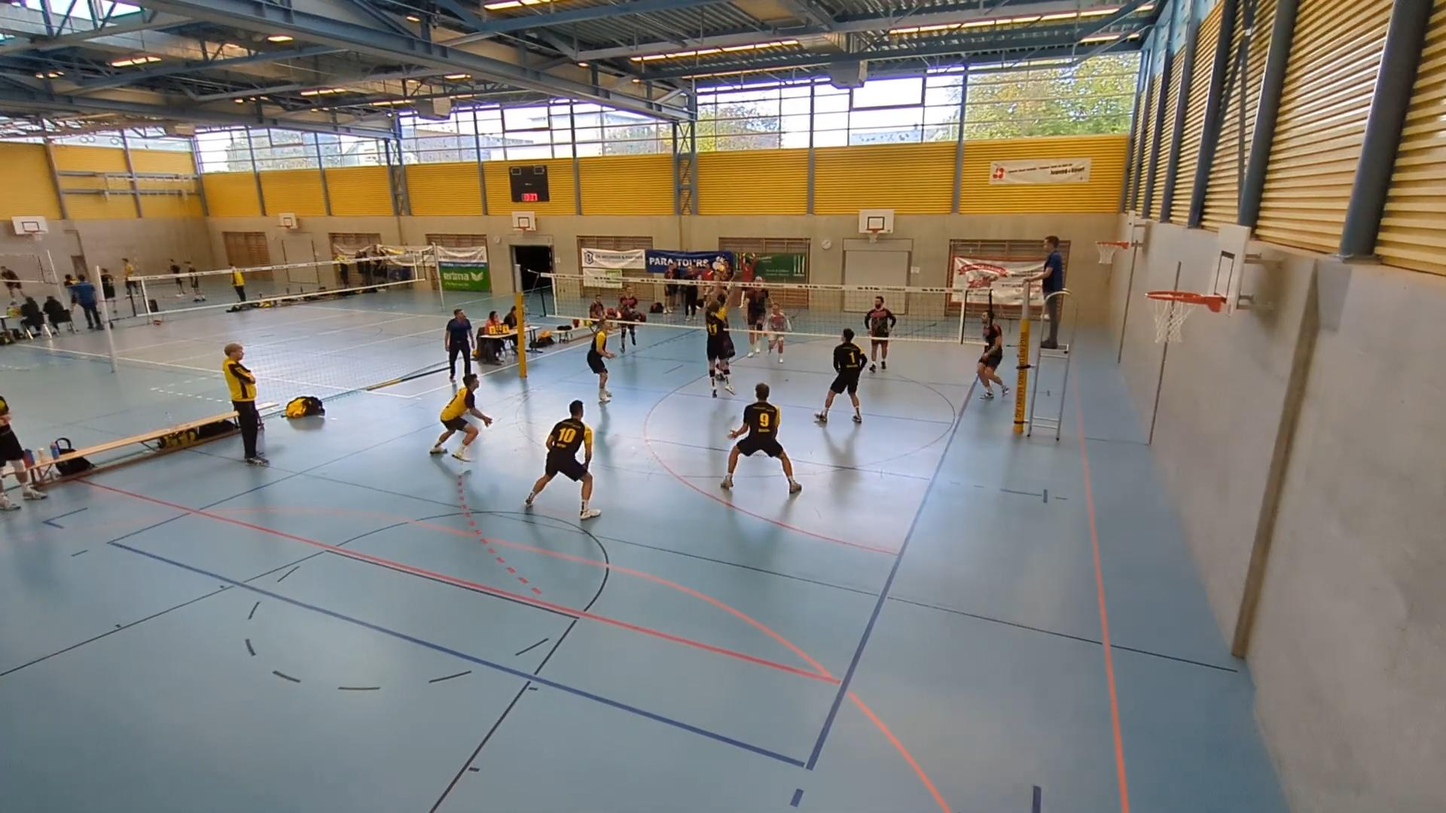muro: (700, 280, 735, 403)
